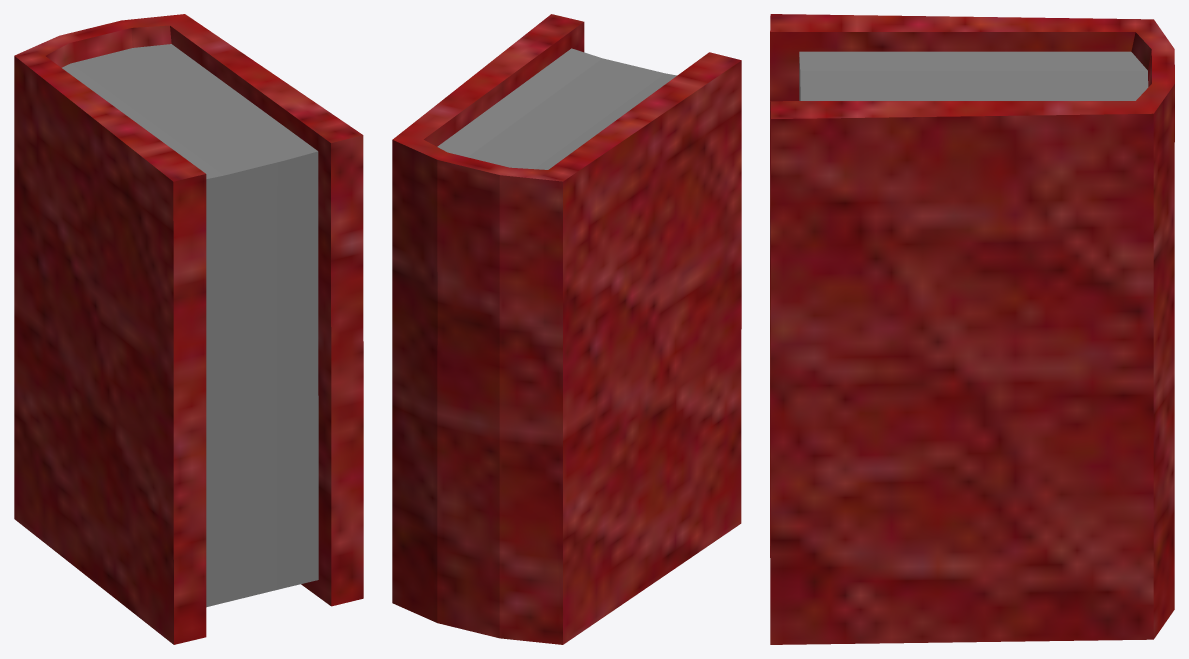
Rendered from Book1.fbx.
3 views of the same model, side by side, from view 1: azimuth 30°, elevation 25°; view 2: azimuth 150°, elevation 25°; view 3: azimuth 270°, elevation 25° (orthographic). The views are drawn at different scales.
Visible parts, largest first — view 1: book01; view 2: book01; view 3: book01.
Boxes of the visible parts, box(x1,y1,x2,y2) form: book01: box(14, 14, 363, 644); book01: box(392, 14, 741, 644); book01: box(770, 14, 1174, 644).
Size of the model in its own units: 0.152 by 0.3538 by 0.2468.
